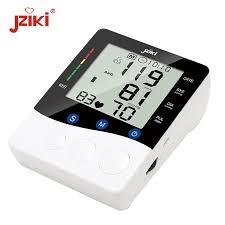BP monitor: (8, 29, 213, 209)
